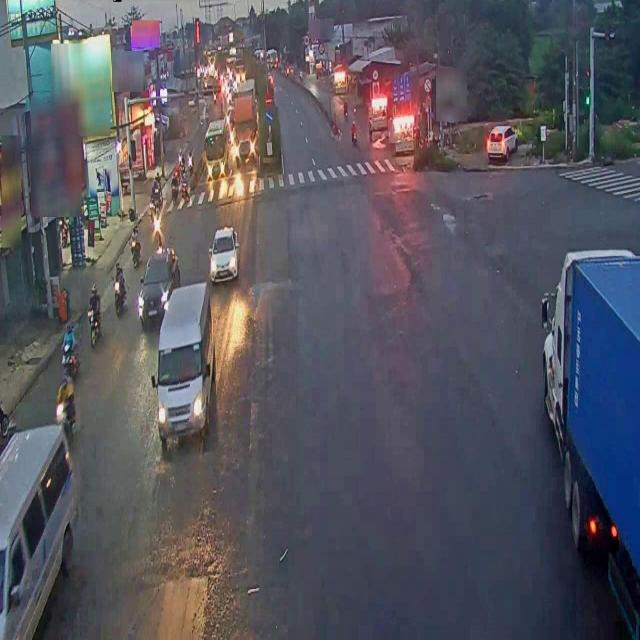car: (140, 251, 176, 322), (209, 224, 238, 284)
truck: (537, 239, 640, 639), (0, 417, 84, 640), (156, 283, 214, 441)
